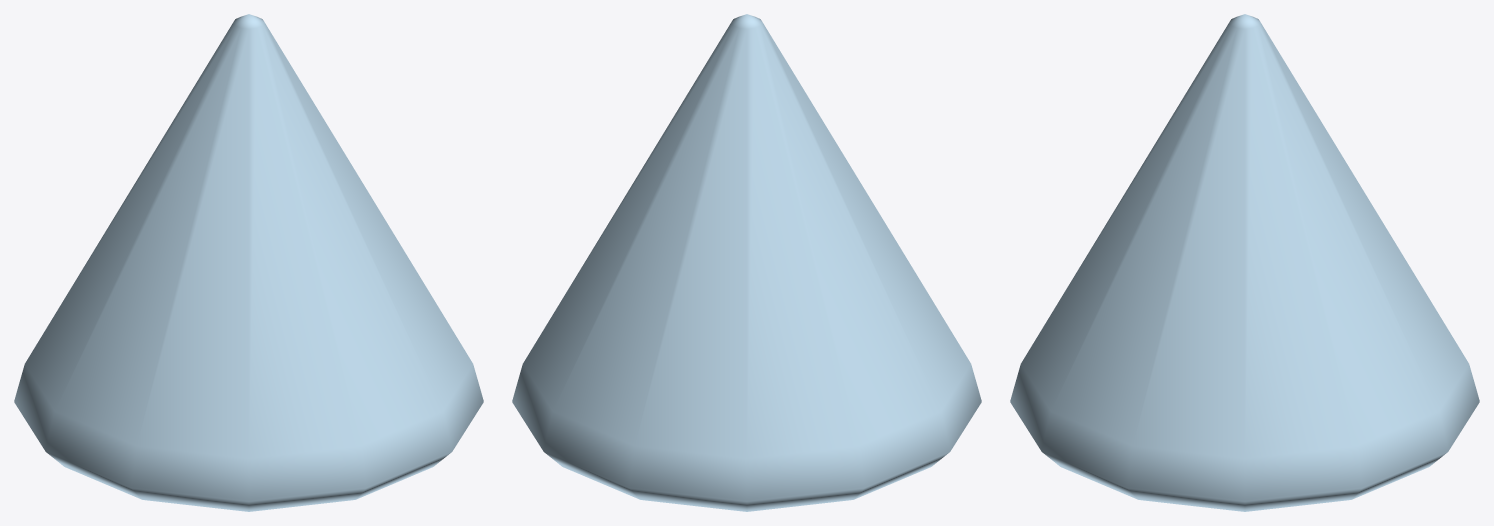
3 renders of one model, left to right at view 1: azimuth 30°, elevation 25°; view 2: azimuth 150°, elevation 25°; view 3: azimuth 270°, elevation 25°, orthographic.
Visible parts, largest first — view 1: R4B_Cone_LOD1; view 2: R4B_Cone_LOD1; view 3: R4B_Cone_LOD1.
Boxes of the visible parts, x1,y1,x2,y2 form: R4B_Cone_LOD1: (14,14,483,511); R4B_Cone_LOD1: (512,14,981,511); R4B_Cone_LOD1: (1010,14,1479,511).
Size of the model in its own units: 0.52 by 0.4987 by 0.52.
